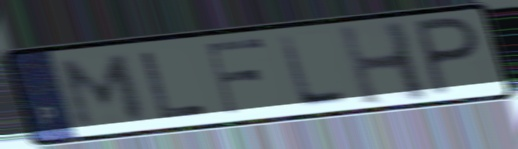F: (203, 35, 268, 118)
H: (333, 18, 435, 109)
L: (275, 33, 352, 110), (136, 48, 212, 122)
M: (58, 52, 150, 131)
P: (411, 13, 484, 99)
